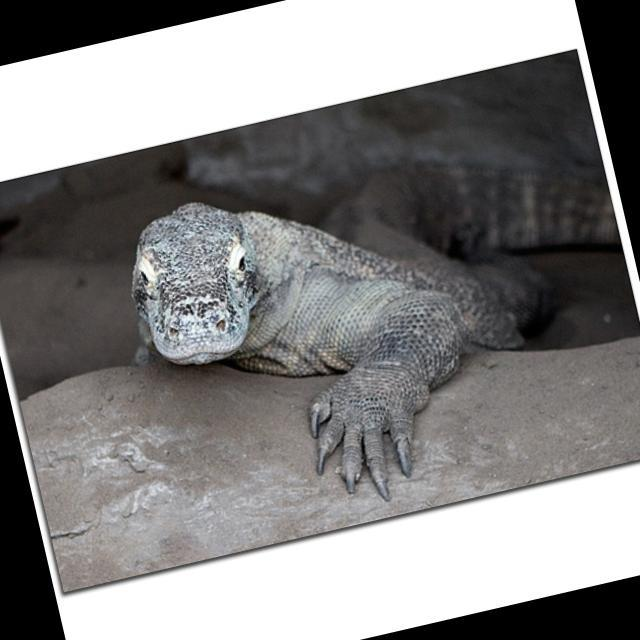KomodoDragon: (113, 107, 640, 552)
